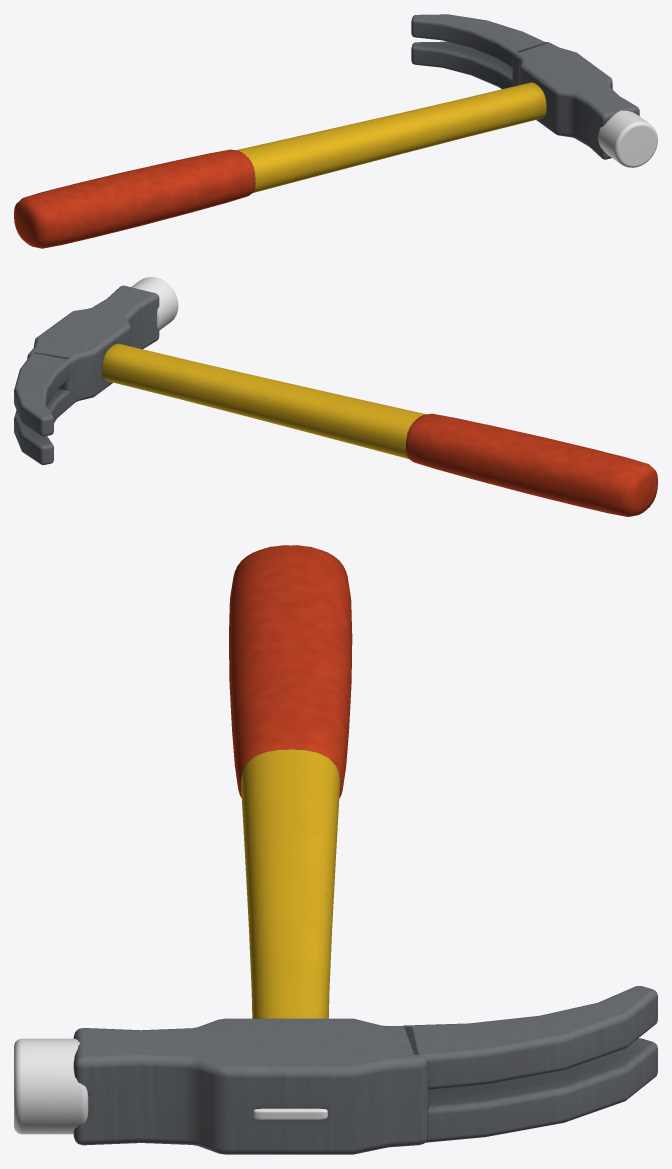
File: claw-rubber-grip.glb
3 views of the same model, one above another, from view 1: azimuth 30°, elevation 25°; view 2: azimuth 150°, elevation 25°; view 3: azimuth 270°, elevation 25° (orthographic). The views are drawn at different scales.
Visible parts, largest first — view 1: steel_forged, rubber_grip, fibreglass_yellow, steel_polished; view 2: rubber_grip, fibreglass_yellow, steel_forged, steel_polished; view 3: steel_forged, rubber_grip, fibreglass_yellow, steel_polished.
Boxes of the visible parts, x1,y1,x2,y2 form: steel_forged: (411, 14, 639, 159); rubber_grip: (14, 149, 255, 248); fibreglass_yellow: (236, 82, 546, 192); steel_polished: (598, 110, 657, 167); rubber_grip: (406, 413, 657, 516); fibreglass_yellow: (102, 343, 425, 458); steel_forged: (14, 285, 159, 464); steel_polished: (131, 277, 178, 330); steel_forged: (73, 986, 657, 1154); rubber_grip: (229, 545, 352, 798); fibreglass_yellow: (241, 749, 339, 1018); steel_polished: (14, 1038, 327, 1134).
Size of the model in its own units: 0.3396 by 0.026 by 0.1723.
Materials: 4 (3 with a texture image).
